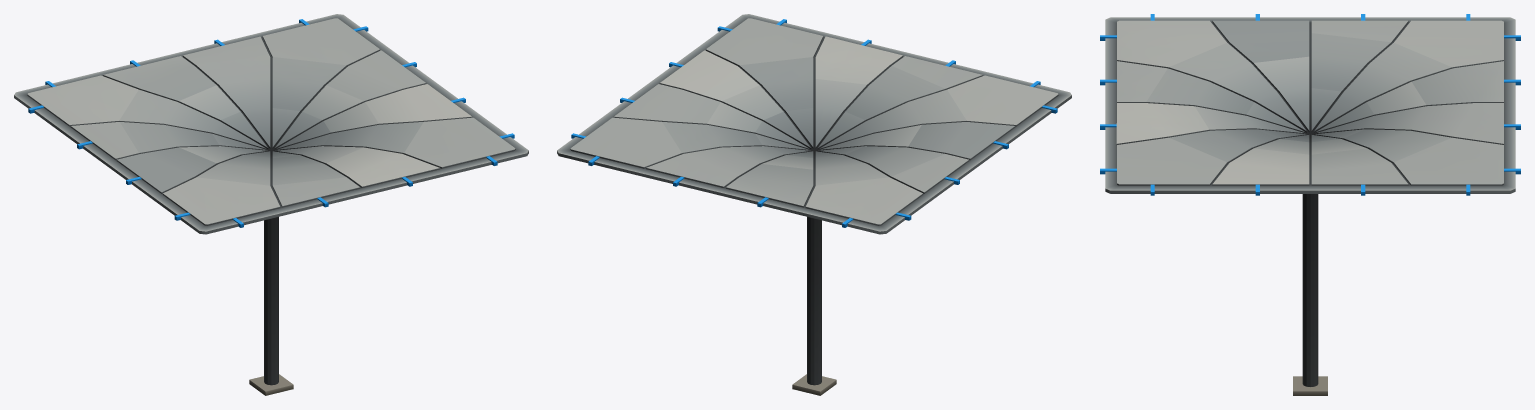
File: Modular_Structure_1B.fbx
3 renders of one model, left to right at view 1: azimuth 30°, elevation 25°; view 2: azimuth 150°, elevation 25°; view 3: azimuth 270°, elevation 25°, orthographic. The views are drawn at different scales.
Visible parts, largest first — view 1: Modular_Structure_1B; view 2: Modular_Structure_1B; view 3: Modular_Structure_1B.
Part boxes in pixels (x1=…): Modular_Structure_1B: x1=14, y1=14, x2=528, y2=395; Modular_Structure_1B: x1=557, y1=14, x2=1071, y2=395; Modular_Structure_1B: x1=1100, y1=14, x2=1520, y2=395.
Size of the model in its own units: 2400 by 1800 by 2400.
